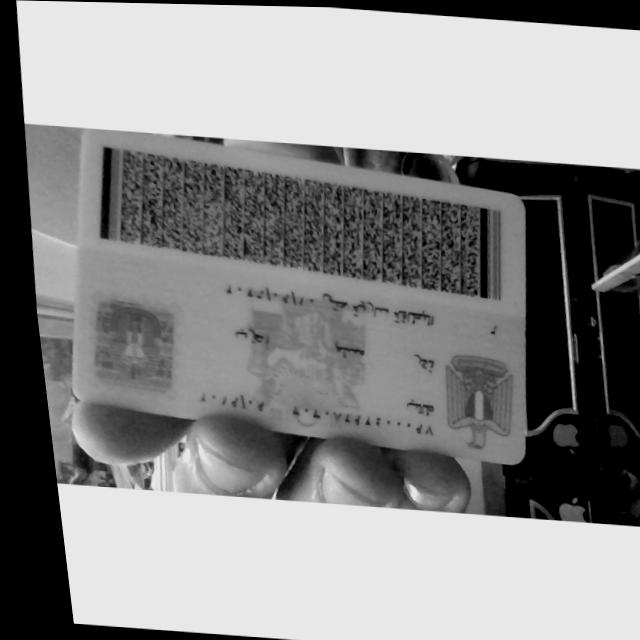id_card: (73, 129, 528, 464)
